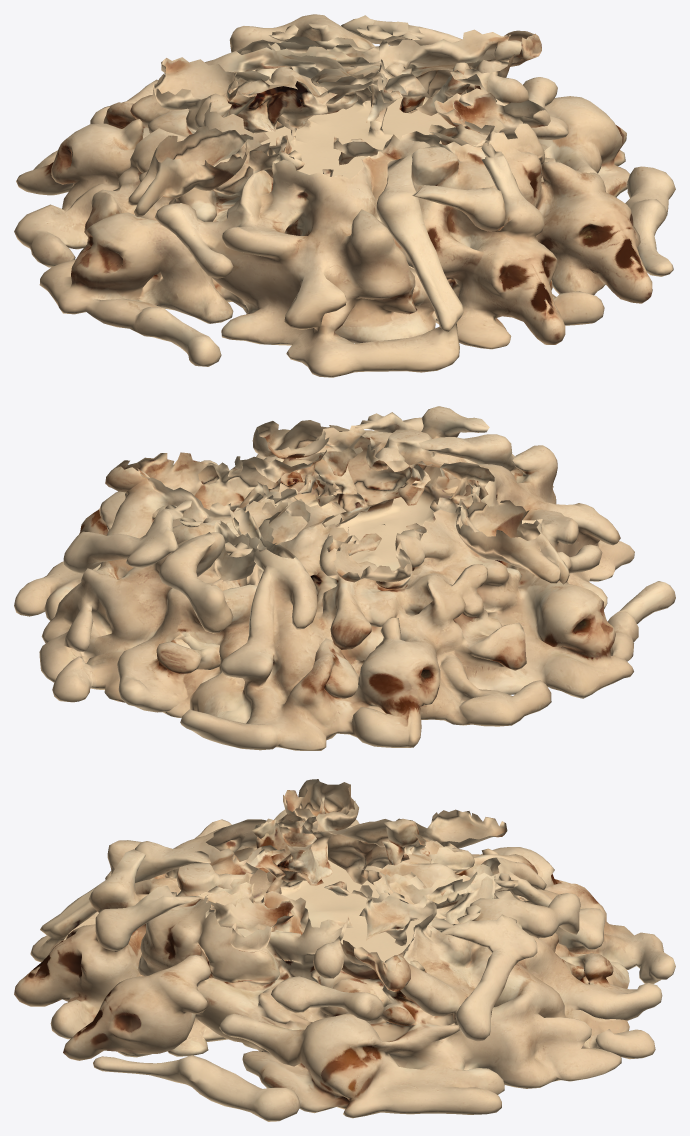
File: pit_bone_heap.glb
The picture shows the model from 3 angles, top to bottom: view 1: azimuth 30°, elevation 25°; view 2: azimuth 150°, elevation 25°; view 3: azimuth 270°, elevation 25°; orthographic projection. The views are drawn at different scales.
Bounding box in the file's own units: 1.81 × 0.4149 × 1.91.
Materials: 1 (1 with a texture image).
